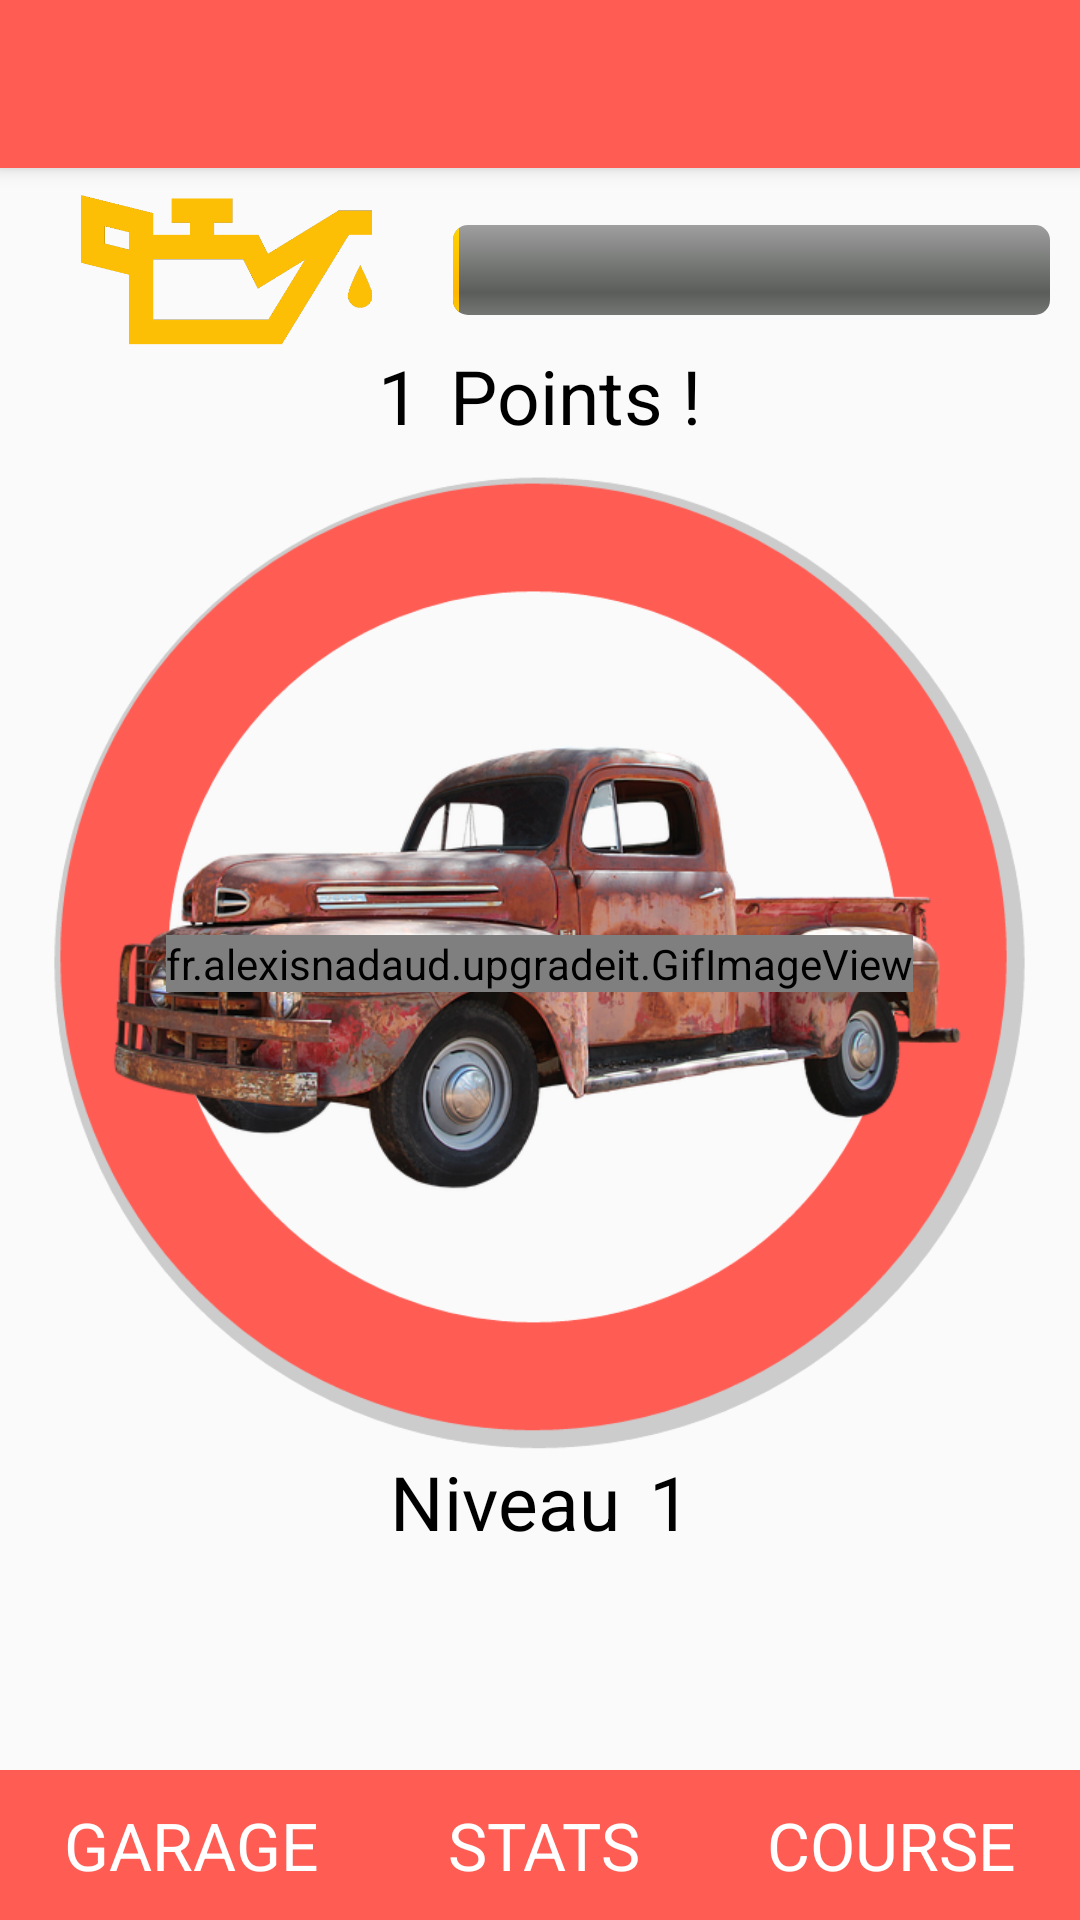

Named icons in this screenshot (1080 x 1920) and their centers, point (x, y):
huile: point (226, 270)
